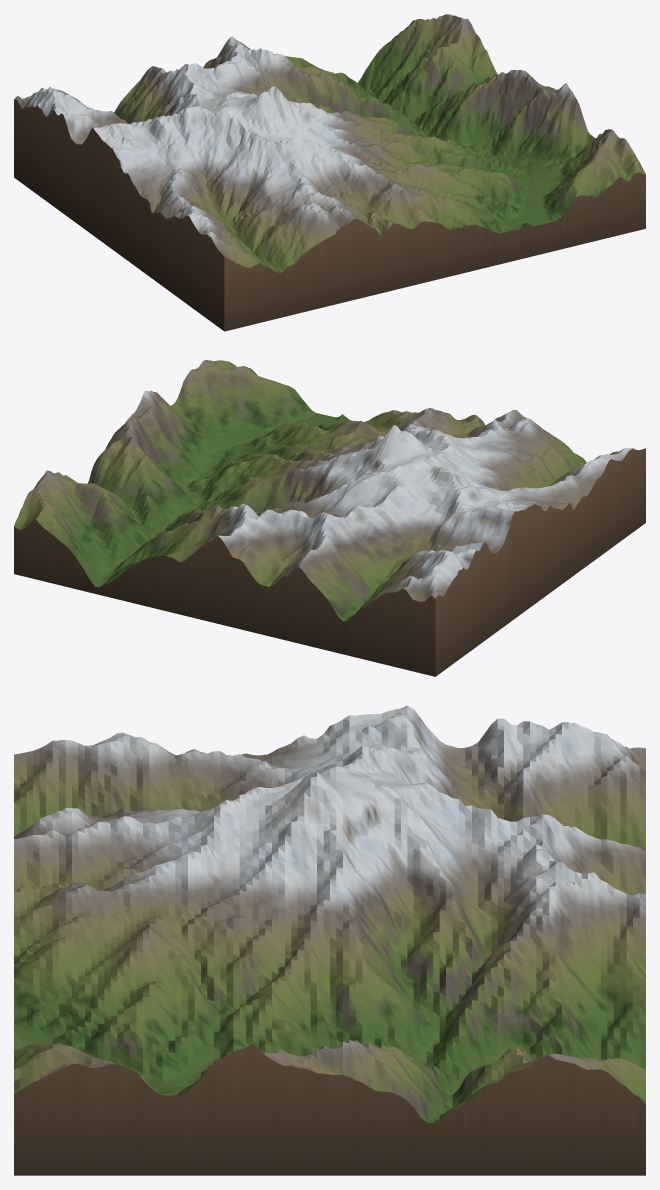
File: kazbegi-relief-lod1.glb
3 renders of one model, top to bottom at view 1: azimuth 30°, elevation 25°; view 2: azimuth 150°, elevation 25°; view 3: azimuth 270°, elevation 25°, orthographic. The views are drawn at different scales.
Parts seen in each view (by area): view 1: terrain, plinth; view 2: terrain, plinth; view 3: terrain, plinth.
Boxes of the visible parts, box(x1,y1,x2,y2) form: terrain: box(14, 14, 645, 273); plinth: box(14, 99, 645, 331); terrain: box(14, 360, 632, 621); plinth: box(14, 448, 645, 676); terrain: box(14, 705, 645, 1122); plinth: box(14, 1044, 645, 1175).
Bounding box in the file's own units: 20.45 × 6.24 × 17.69.
